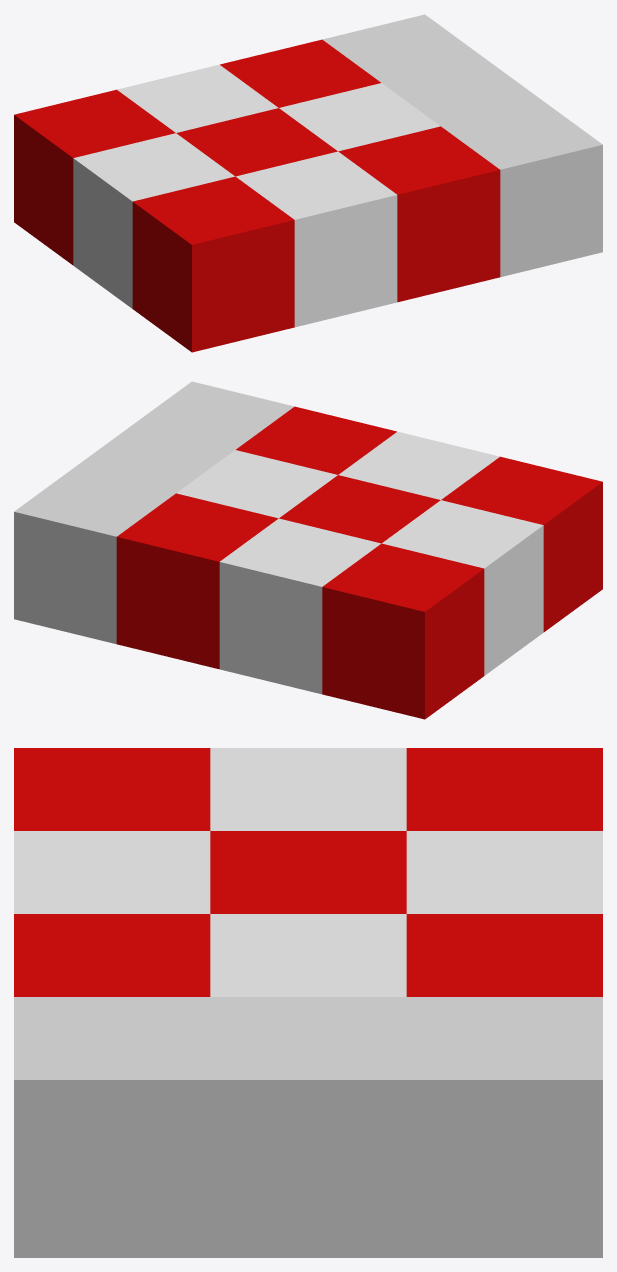
The model's file is F_PhotoSmall.obj.
3 views of the same model, one above another, from view 1: azimuth 30°, elevation 25°; view 2: azimuth 150°, elevation 25°; view 3: azimuth 270°, elevation 25° (orthographic). The views are drawn at different scales.
Visible parts, largest first — view 1: F_PhotoSmall; view 2: F_PhotoSmall; view 3: F_PhotoSmall.
Part boxes in pixels (<box>): F_PhotoSmall: <box>14,14,602,352</box>; F_PhotoSmall: <box>14,381,602,719</box>; F_PhotoSmall: <box>14,748,602,1257</box>.
Bounding box in the file's own units: 0.4 × 0.1 × 0.3.
Materials: 1 (1 with a texture image).
